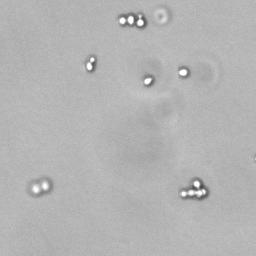budding: (27, 176, 54, 197), (82, 51, 96, 76)
cluster: (176, 175, 211, 203), (116, 7, 147, 32)
individual: (176, 65, 191, 81), (141, 73, 155, 89)
